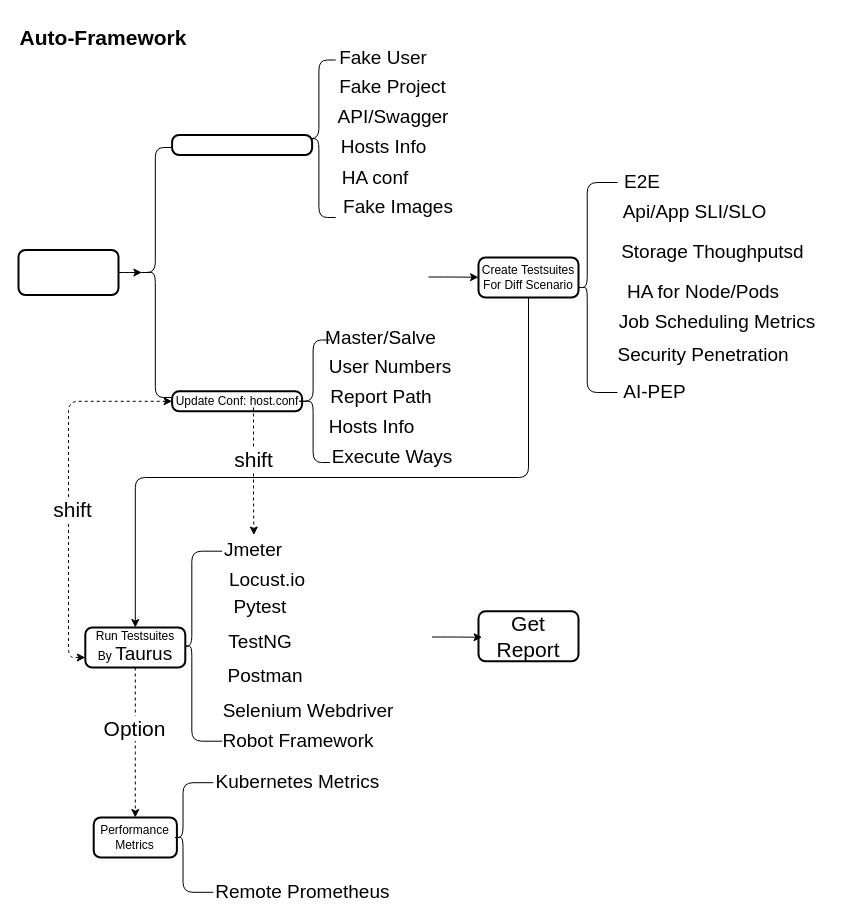
This 855x924 diagram has some shape labels left out. Here are the shapes that lost their labels. From the top down, the box of each, then its label:
(171, 134, 313, 156): Create Datas: datas.yaml
(17, 248, 119, 296): Start Container
